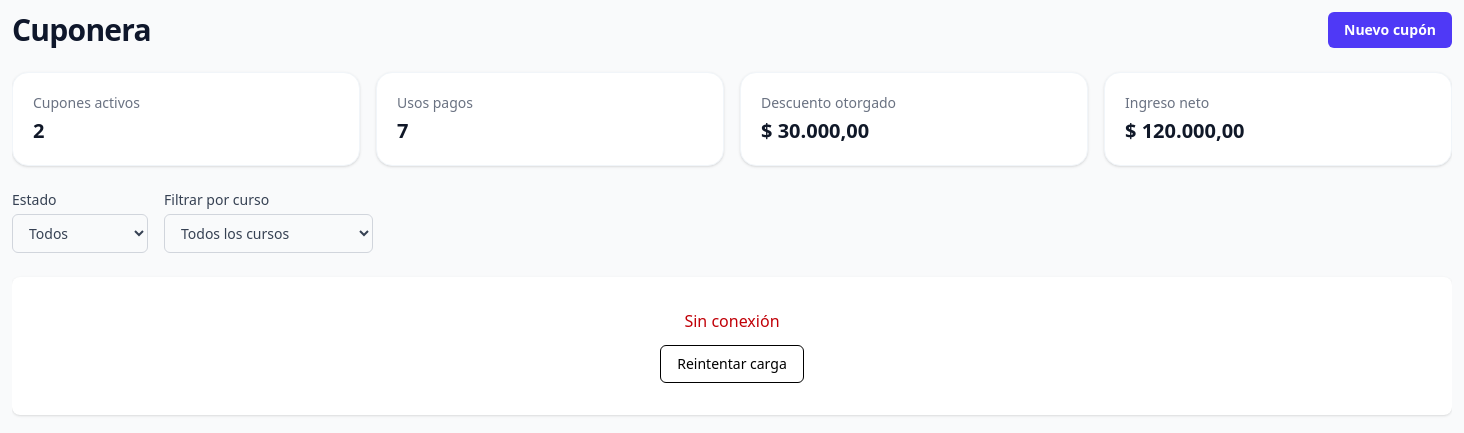
Test case: CouponsPage › shows the error and reloads on retry
This screenshot has width=1464, height=433.
expect the text "Sin conexión" is shown: met, box [684,310,780,332]
Step 1. Click the button "Reintentar carga" → (732, 364), box [660,345,804,383]
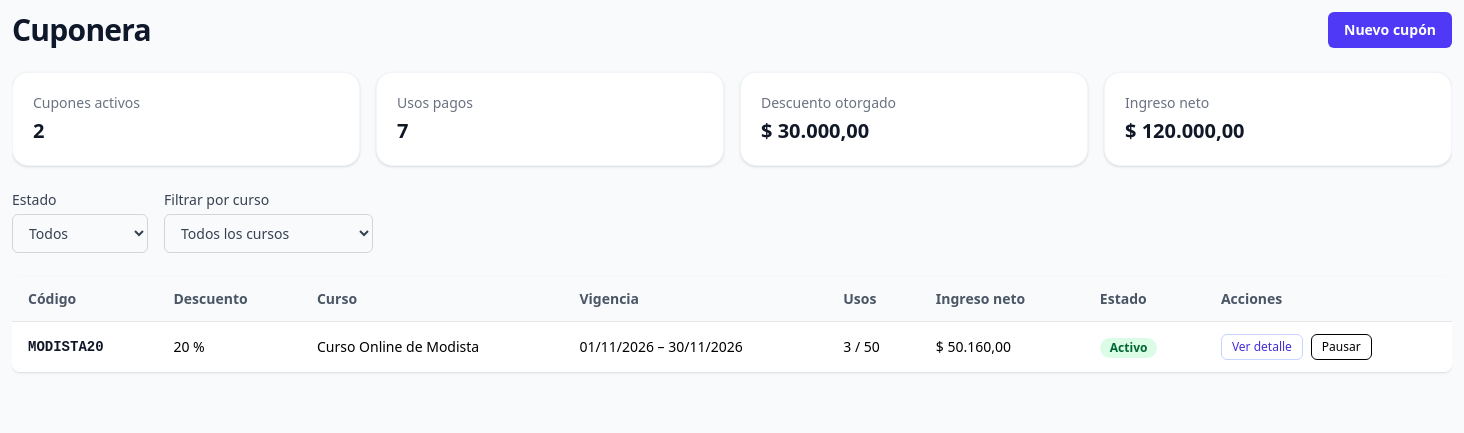
expect the text "MODISTA20" is shown: met, box [12,322,157,372]
